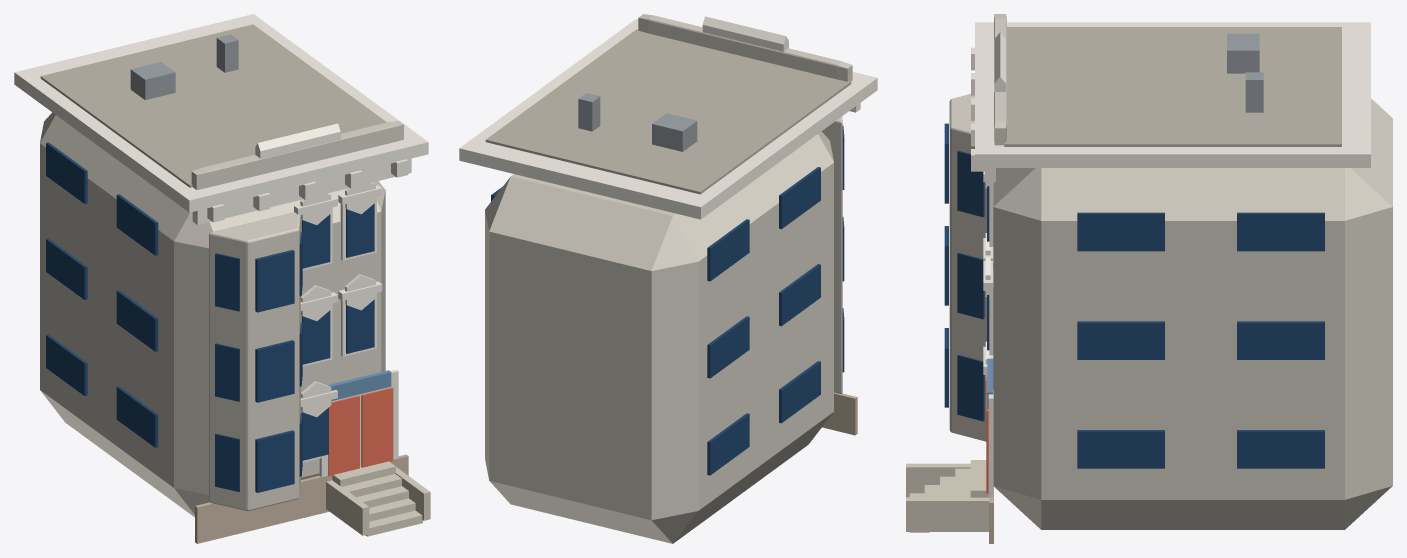
File: ital_w7_tall.glb
3 views of the same model, side by side, from view 1: azimuth 30°, elevation 25°; view 2: azimuth 150°, elevation 25°; view 3: azimuth 270°, elevation 25° (orthographic). The views are drawn at different scales.
Visible parts, largest first — view 1: walls, roofslab, bay, corn, fparapet, bsmt, door.001, door, bw, bw.001, bw.002, frieze (+34 smaller); view 2: walls, roofslab, corn, fparapet, bay, sb.006, sb.010, sb.002, sb, sb.004, sb.008, hvac (+4 smaller); view 3: walls, roofslab, corn, bay, sb.009, sb.011, sb.001, sb.003, sb.005, sb.007, cheek.001, bwa.001 (+9 smaller).
Part boxes in pixels (bbox=[...]): walls: bbox=[40, 112, 385, 517]; roofslab: bbox=[40, 24, 386, 187]; bay: bbox=[209, 212, 300, 510]; corn: bbox=[14, 14, 428, 212]; fparapet: bbox=[191, 121, 403, 189]; bsmt: bbox=[195, 454, 408, 543]; door.001: bbox=[361, 387, 393, 467]; door: bbox=[328, 395, 359, 476]; bw: bbox=[255, 430, 294, 492]; bw.001: bbox=[255, 340, 294, 402]; bw.002: bbox=[255, 250, 294, 312]; frieze: bbox=[192, 158, 411, 224]; walls: bbox=[485, 131, 833, 543]; roofslab: bbox=[485, 29, 851, 194]; corn: bbox=[459, 19, 877, 219]; fparapet: bbox=[638, 14, 852, 81]; bay: bbox=[821, 116, 842, 393]; sb.006: bbox=[707, 316, 749, 378]; sb.010: bbox=[707, 219, 749, 281]; sb.002: bbox=[707, 413, 749, 475]; sb: bbox=[779, 361, 820, 423]; sb.004: bbox=[779, 264, 820, 326]; sb.008: bbox=[779, 167, 820, 229]; hvac: bbox=[652, 113, 697, 151]; walls: bbox=[993, 98, 1392, 529]; roofslab: bbox=[1004, 27, 1341, 146]; corn: bbox=[975, 22, 1370, 167]; bay: bbox=[949, 94, 986, 441]; sb.009: bbox=[1077, 212, 1164, 251]; sb.011: bbox=[1237, 212, 1324, 251]; sb.001: bbox=[1077, 430, 1164, 468]; sb.003: bbox=[1237, 430, 1324, 468]; sb.005: bbox=[1077, 321, 1164, 359]; sb.007: bbox=[1237, 321, 1324, 359]; cheek.001: bbox=[906, 497, 988, 531]; bwa.001: bbox=[957, 354, 984, 421].
Size of the model in its own units: 8.6 by 13.15 by 13.4.
